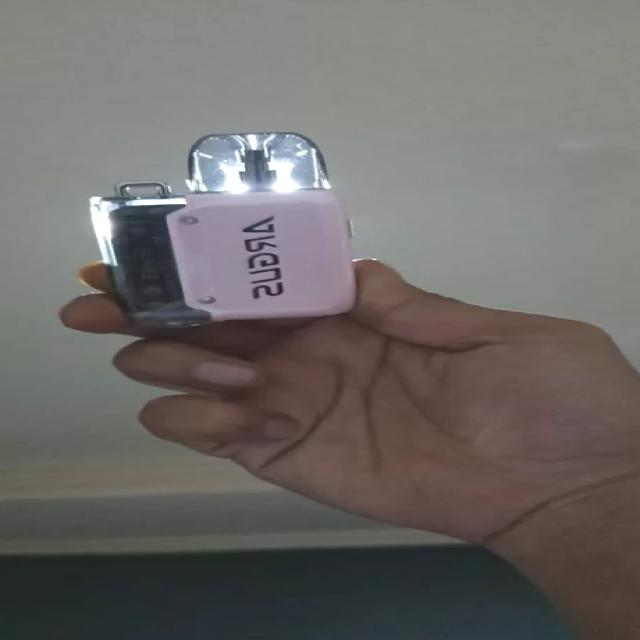Hazard: (85, 130, 360, 318)
